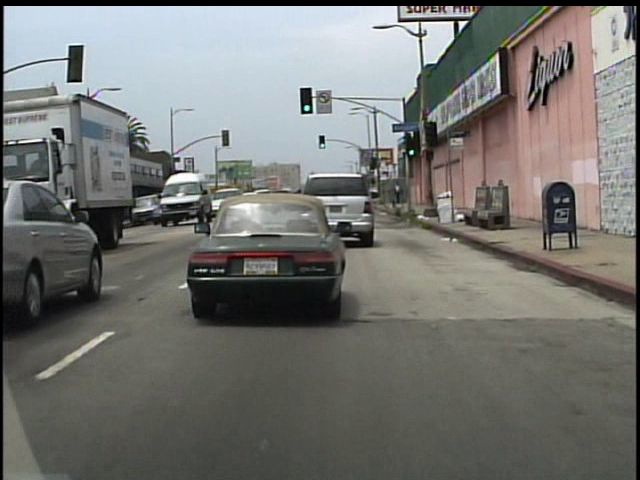person: (394, 182, 404, 205)
